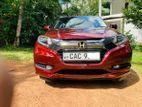car: (30, 9, 135, 89)
